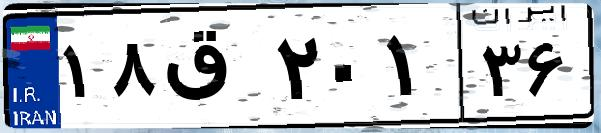0: (330, 28, 385, 110)
1: (385, 28, 445, 110), (57, 26, 110, 100)
2: (270, 28, 330, 110)
3: (475, 38, 525, 113)
6: (525, 38, 570, 115)
8: (110, 28, 158, 98)
ق: (158, 20, 270, 120)
